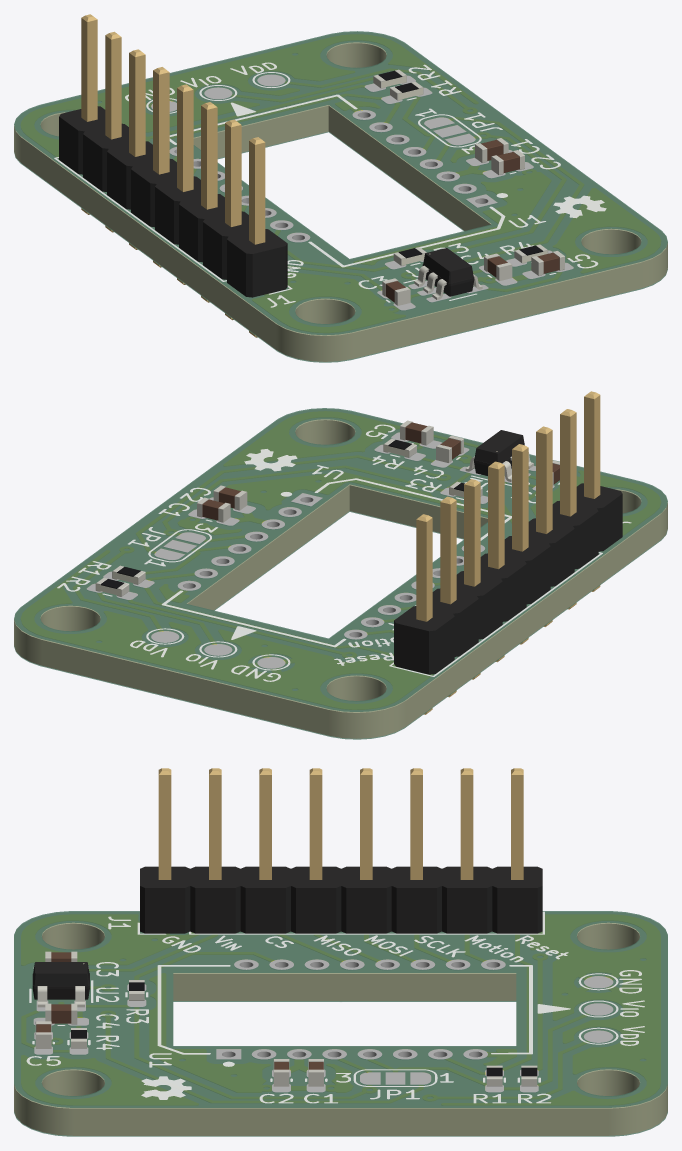
Rendered from board.glb.
The picture shows the model from 3 angles, top to bottom: view 1: azimuth 30°, elevation 25°; view 2: azimuth 150°, elevation 25°; view 3: azimuth 270°, elevation 25°; orthographic projection. The views are drawn at different scales.
Parts seen in each view (by area): view 1: board_soldermask (×2), board_PCB, PinHeader_1x08_P254mm_Vertical, board_copper, board_pad, board_silkscreen, C_0603_1608Metric (×5), SOT-23-5; view 2: board_soldermask (×2), board_PCB, PinHeader_1x08_P254mm_Vertical, board_copper, board_silkscreen, board_pad, C_0603_1608Metric (×4), SOT-23-5; view 3: board_soldermask (×2), board_PCB, PinHeader_1x08_P254mm_Vertical, board_copper, board_silkscreen, board_pad, SOT-23-5, C_0603_1608Metric.
Boxes of the visible parts, bbox=[...] form: board_soldermask (×2): bbox=[14, 31, 667, 362]; board_PCB: bbox=[14, 32, 667, 361]; PinHeader_1x08_P254mm_Vertical: bbox=[59, 14, 287, 337]; board_copper: bbox=[21, 35, 660, 332]; board_pad: bbox=[151, 74, 573, 310]; board_silkscreen: bbox=[54, 62, 606, 307]; C_0603_1608Metric (×5): bbox=[382, 138, 564, 305]; SOT-23-5: bbox=[414, 248, 482, 299]; board_soldermask (×2): bbox=[14, 408, 667, 739]; board_PCB: bbox=[14, 409, 667, 738]; PinHeader_1x08_P254mm_Vertical: bbox=[394, 391, 622, 714]; board_copper: bbox=[21, 411, 660, 709]; board_silkscreen: bbox=[57, 424, 631, 681]; board_pad: bbox=[87, 432, 554, 668]; C_0603_1608Metric (×4): bbox=[197, 420, 463, 522]; SOT-23-5: bbox=[465, 430, 533, 481]; board_soldermask (×2): bbox=[14, 911, 667, 1136]; board_PCB: bbox=[14, 912, 667, 1135]; PinHeader_1x08_P254mm_Vertical: bbox=[140, 768, 542, 933]; board_copper: bbox=[21, 915, 660, 1104]; board_silkscreen: bbox=[26, 911, 644, 1103]; board_pad: bbox=[33, 959, 613, 1092]; SOT-23-5: bbox=[32, 962, 89, 1007]; C_0603_1608Metric: bbox=[45, 1003, 77, 1024].
Bounding box in the file's own units: 0.0235 × 0.0115 × 0.033.
